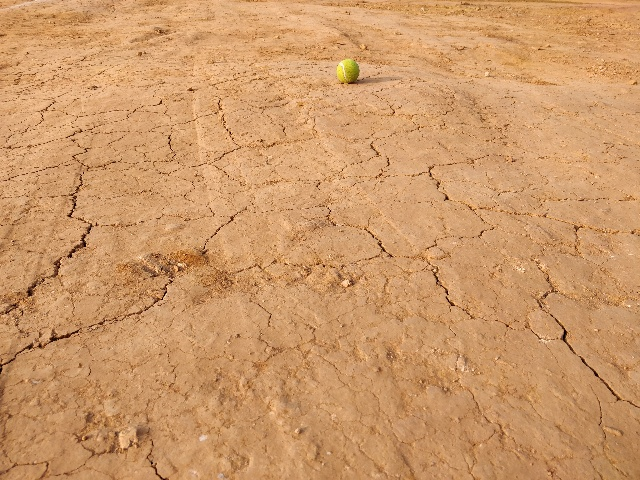ball: (331, 54, 367, 87)
